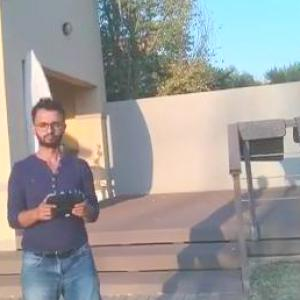follow: (3, 92, 113, 299)
